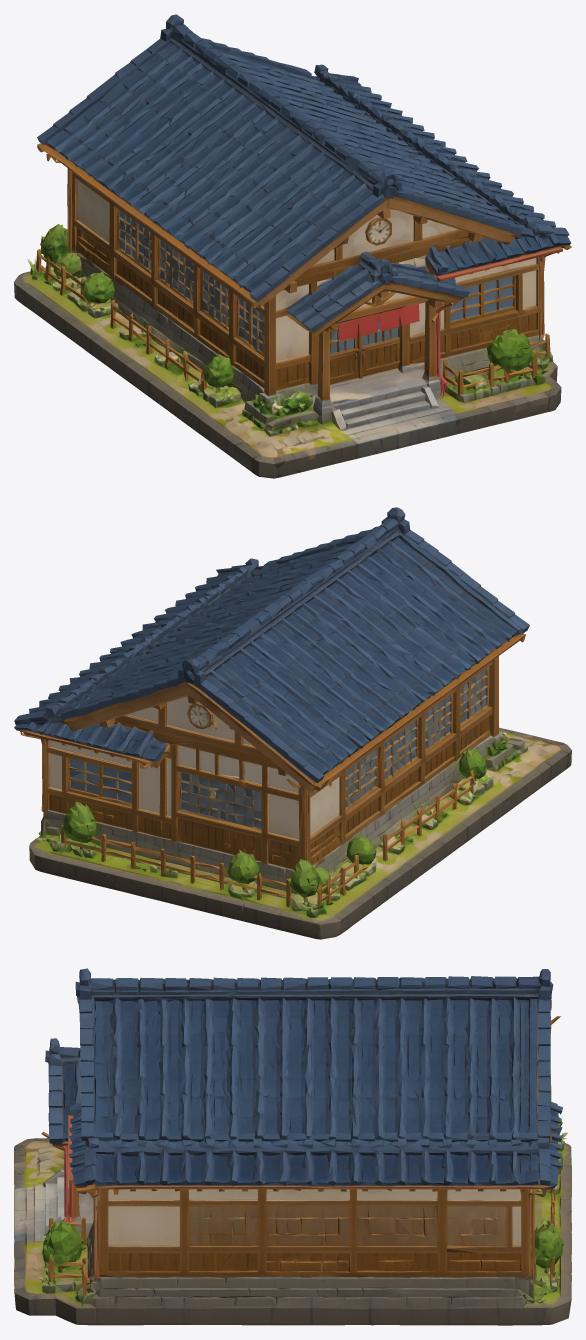
The picture shows the model from 3 angles, top to bottom: view 1: azimuth 30°, elevation 25°; view 2: azimuth 150°, elevation 25°; view 3: azimuth 270°, elevation 25°; orthographic projection. The views are drawn at different scales.
Visible parts, largest first — view 1: model; view 2: model; view 3: model.
Boxes of the visible parts, x1,y1,x2,y2 form: model: (14, 14, 571, 478); model: (14, 507, 571, 939); model: (14, 968, 571, 1325).
Size of the model in its own units: 1.44 by 1.01 by 1.89.
1 material, 1 textured.
